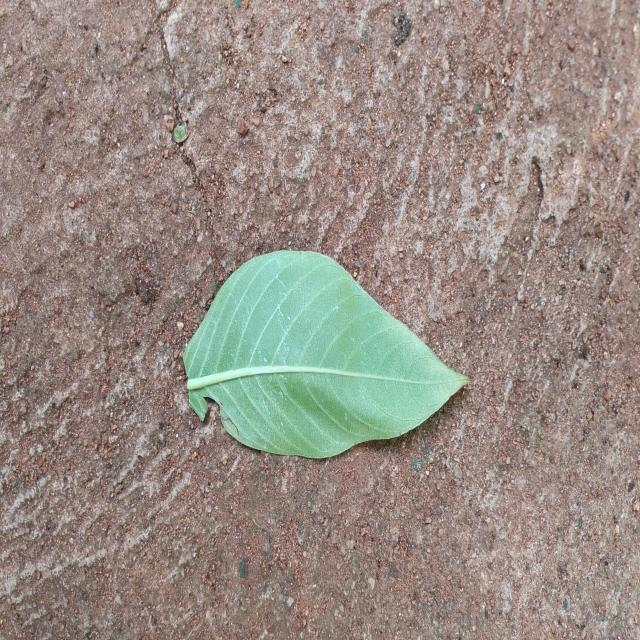malabar_nut: (184, 251, 468, 458)
